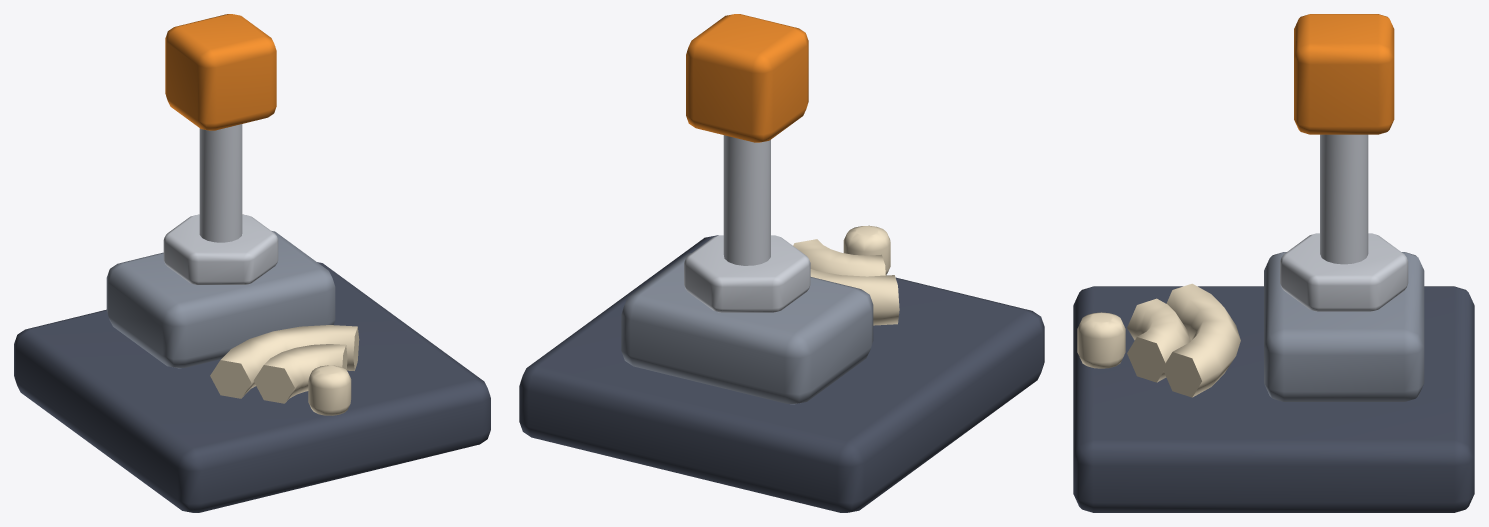
Rendered from Ctrl_Toggle_Comms.fbx.
3 renders of one model, left to right at view 1: azimuth 30°, elevation 25°; view 2: azimuth 150°, elevation 25°; view 3: azimuth 270°, elevation 25°, orthographic. The views are drawn at different scales.
Parts seen in each view (by area): view 1: Ctrl_Toggle_Comms.Base, Ctrl_Toggle_Comms.Housing, Ctrl_Toggle_Comms.Move_Lever, Ctrl_Toggle_Comms.Icon, Ctrl_Toggle_Comms.Nut; view 2: Ctrl_Toggle_Comms.Base, Ctrl_Toggle_Comms.Housing, Ctrl_Toggle_Comms.Move_Lever, Ctrl_Toggle_Comms.Nut, Ctrl_Toggle_Comms.Icon; view 3: Ctrl_Toggle_Comms.Base, Ctrl_Toggle_Comms.Move_Lever, Ctrl_Toggle_Comms.Housing, Ctrl_Toggle_Comms.Icon, Ctrl_Toggle_Comms.Nut.
Part boxes in pixels (left/top/right/bottom): Ctrl_Toggle_Comms.Base: left=14, top=262, right=490, bottom=512; Ctrl_Toggle_Comms.Housing: left=106, top=231, right=335, bottom=368; Ctrl_Toggle_Comms.Move_Lever: left=165, top=14, right=276, bottom=242; Ctrl_Toggle_Comms.Icon: left=210, top=325, right=359, bottom=415; Ctrl_Toggle_Comms.Nut: left=163, top=214, right=278, bottom=284; Ctrl_Toggle_Comms.Base: left=519, top=235, right=1044, bottom=512; Ctrl_Toggle_Comms.Housing: left=621, top=253, right=873, bottom=404; Ctrl_Toggle_Comms.Move_Lever: left=686, top=14, right=808, bottom=265; Ctrl_Toggle_Comms.Nut: left=684, top=235, right=810, bottom=312; Ctrl_Toggle_Comms.Icon: left=793, top=225, right=899, bottom=325; Ctrl_Toggle_Comms.Base: left=1073, top=286, right=1474, bottom=512; Ctrl_Toggle_Comms.Move_Lever: left=1294, top=14, right=1394, bottom=264; Ctrl_Toggle_Comms.Housing: left=1264, top=252, right=1424, bottom=401; Ctrl_Toggle_Comms.Icon: left=1077, top=283, right=1240, bottom=397; Ctrl_Toggle_Comms.Nut: left=1280, top=233, right=1408, bottom=311.
Size of the model in its own units: 0.2 by 0.224 by 0.2.
1 material, 1 textured.
